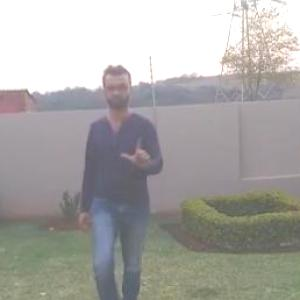land_hand: (120, 131, 156, 171)
